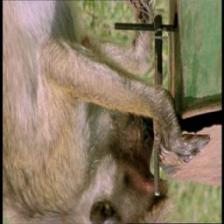monkey: (65, 106, 177, 220)
